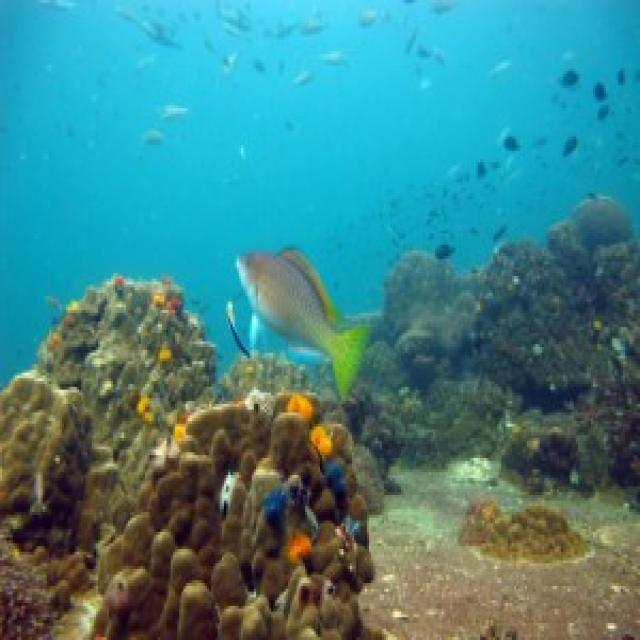Healthy: (91, 391, 387, 638), (37, 277, 216, 482), (1, 376, 93, 547)
